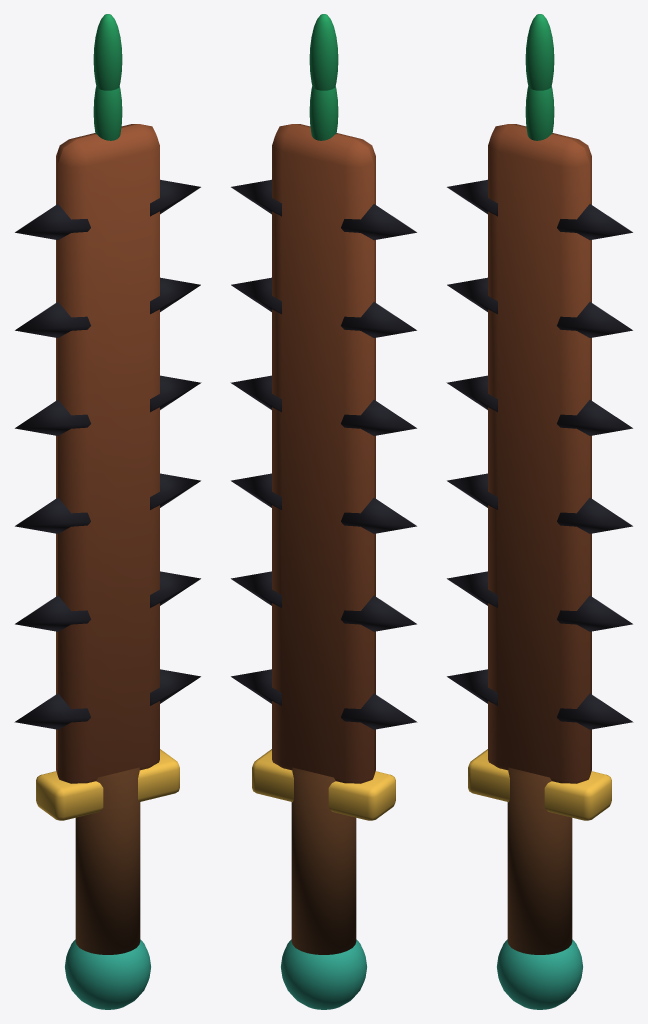
The model's file is macuahuitl.glb.
3 views of the same model, side by side, from view 1: azimuth 30°, elevation 25°; view 2: azimuth 150°, elevation 25°; view 3: azimuth 330°, elevation 25° (orthographic).
Visible parts, largest first — view 1: macuahuitl_fijo; view 2: macuahuitl_fijo; view 3: macuahuitl_fijo.
Boxes of the visible parts, x1,y1,x2,y2 form: macuahuitl_fijo: (14,14,201,1009); macuahuitl_fijo: (230,14,417,1009); macuahuitl_fijo: (446,14,633,1009).
Size of the model in its own units: 0.3 by 1.52 by 0.12.
Materials: 1 (1 with a texture image).
